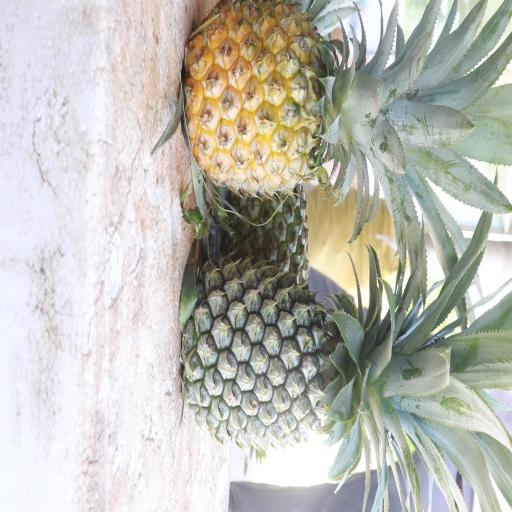Pineapple - v8 v1: (181, 1, 434, 204)
